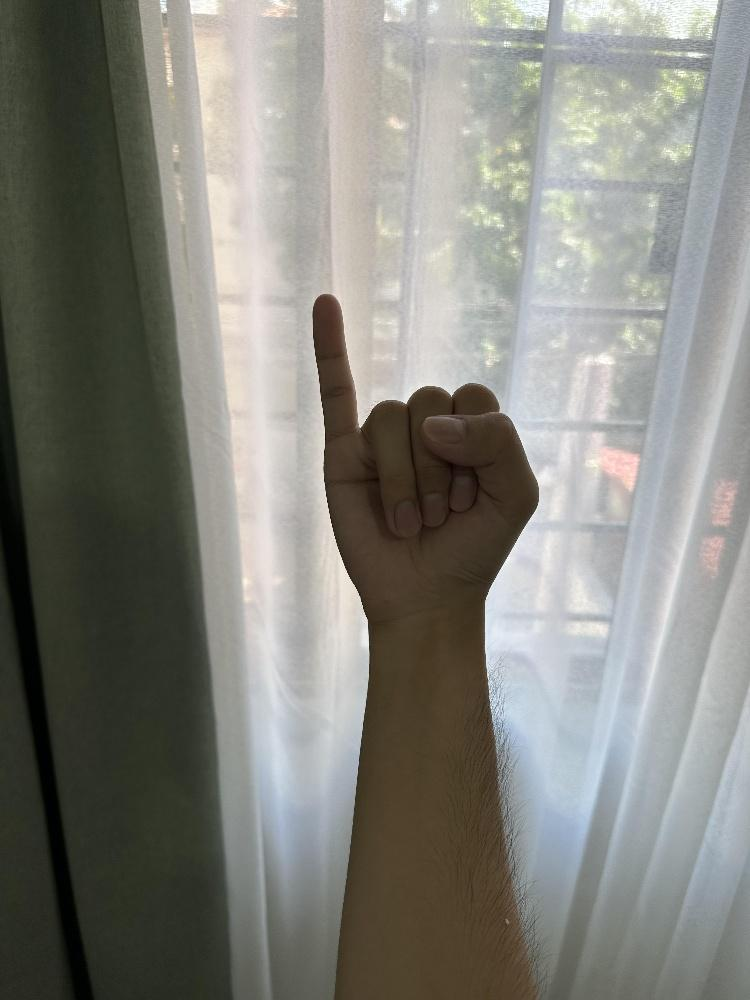i: (310, 289, 542, 623)
